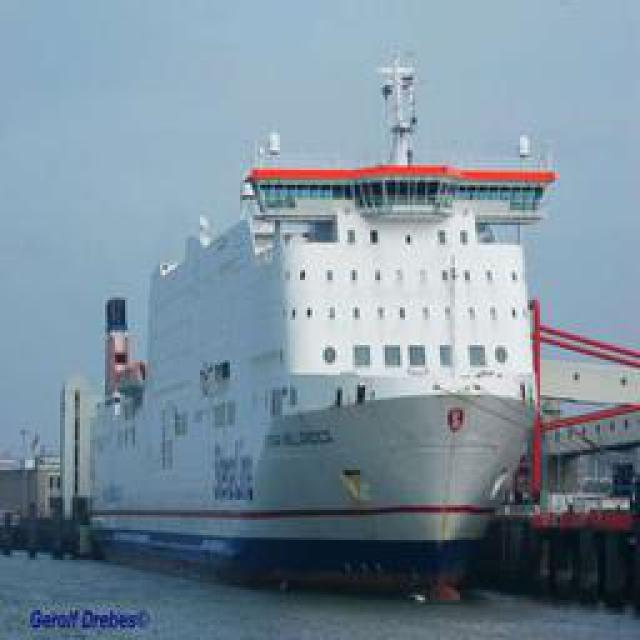Ship: (63, 63, 598, 611)
